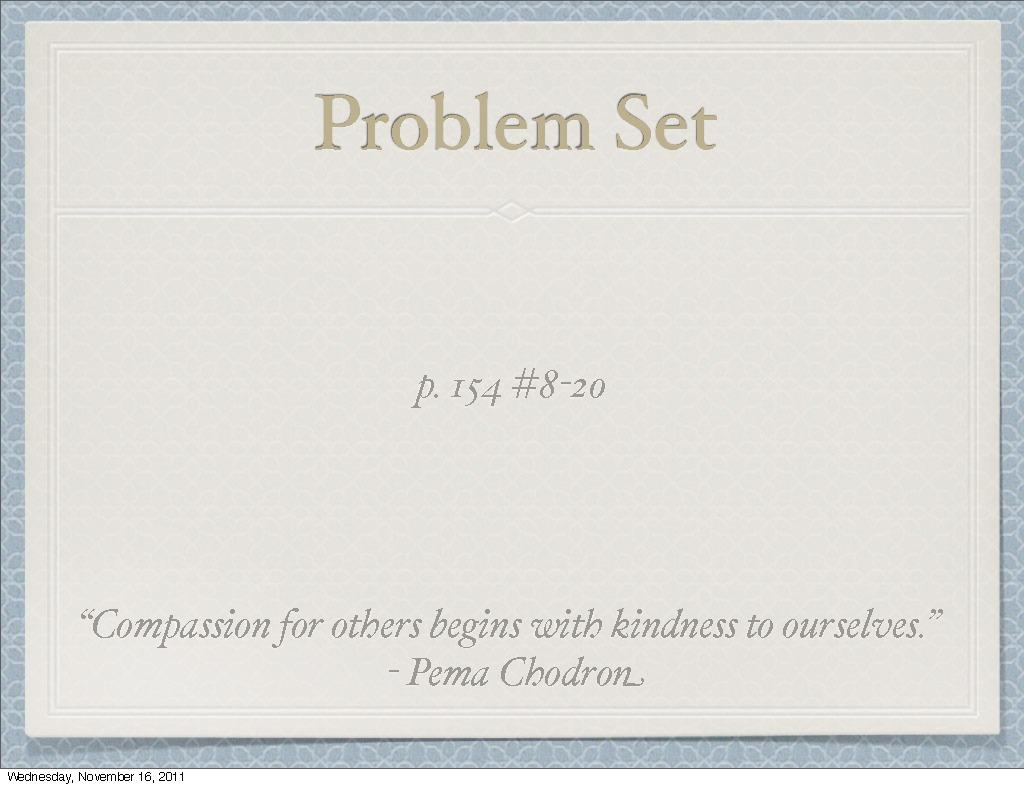subtitle: (36, 546, 968, 708)
title: (295, 68, 743, 176)
